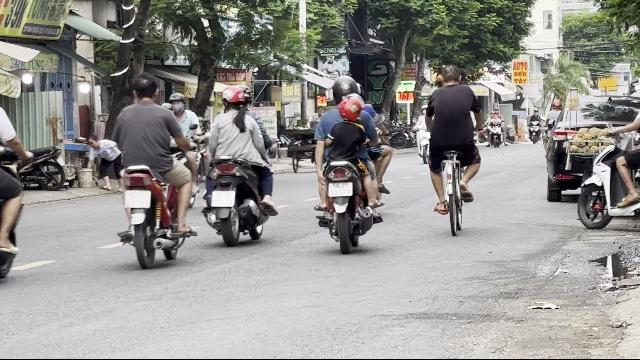helmet: (332, 75, 361, 101), (221, 85, 249, 111), (338, 96, 364, 120)
licenseplate: (124, 190, 150, 208), (212, 191, 234, 207), (328, 183, 352, 197)
motorcyclist: (109, 72, 197, 268), (310, 74, 390, 250), (198, 83, 278, 245)
nohelmet: (130, 73, 160, 103)
